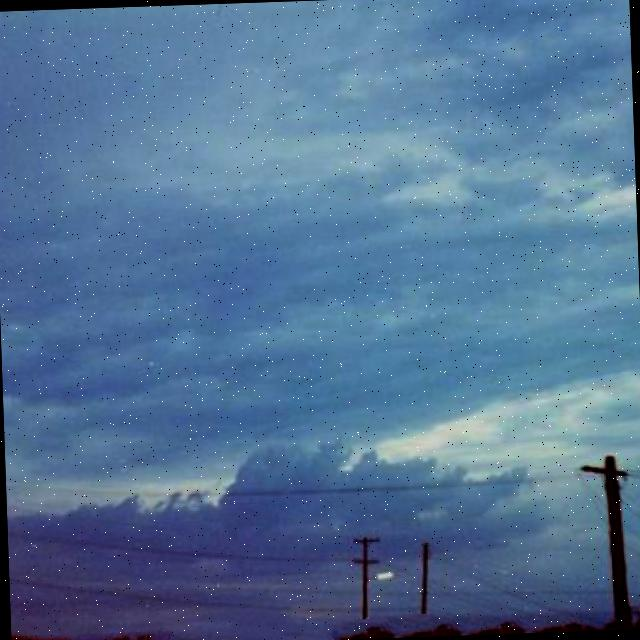Sc: (1, 1, 640, 446)
